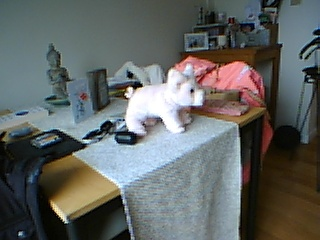piggy: (123, 63, 205, 137)
